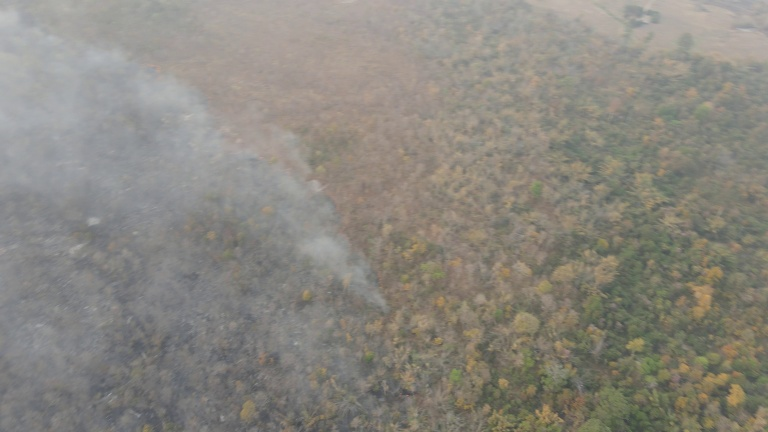smoke: (1, 17, 397, 425)
